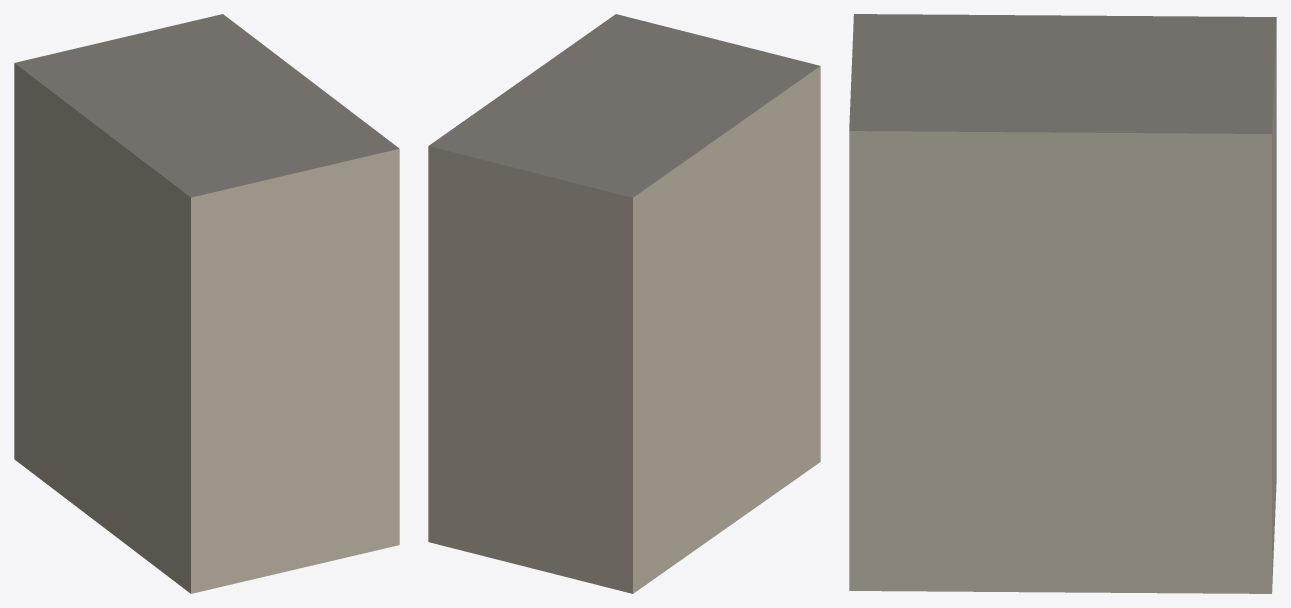
3 renders of one model, left to right at view 1: azimuth 30°, elevation 25°; view 2: azimuth 150°, elevation 25°; view 3: azimuth 270°, elevation 25°, orthographic. The views are drawn at different scales.
Parts seen in each view (by area): view 1: HP-w858824353; view 2: HP-w858824353; view 3: HP-w858824353.
Part boxes in pixels (x1,y1,x2,y2): HP-w858824353: [14, 14, 399, 593]; HP-w858824353: [428, 14, 820, 593]; HP-w858824353: [849, 14, 1276, 593].
Bounding box in the file's own units: 10.08 × 18 × 15.17.
